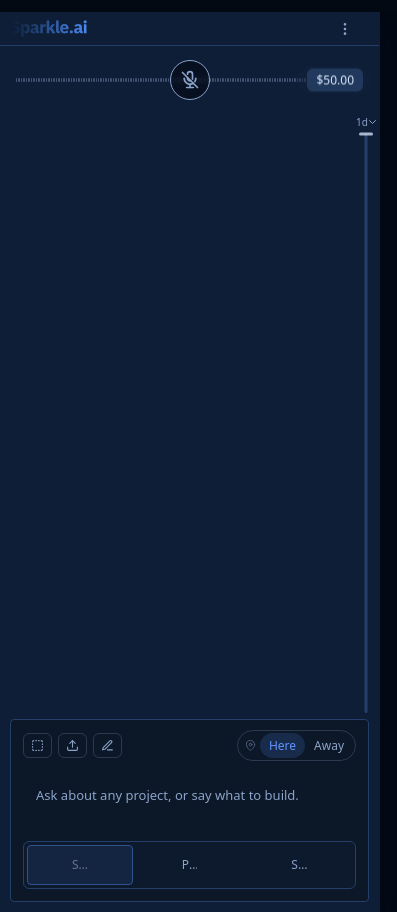
it: ConciergeHost — an addressed message goes where it was addressed › posts a receipt naming the agent it reached
Type "@Kraken Auth ship the DMG" into the text box named "Message" at (190, 804), box [23,775,356,833]
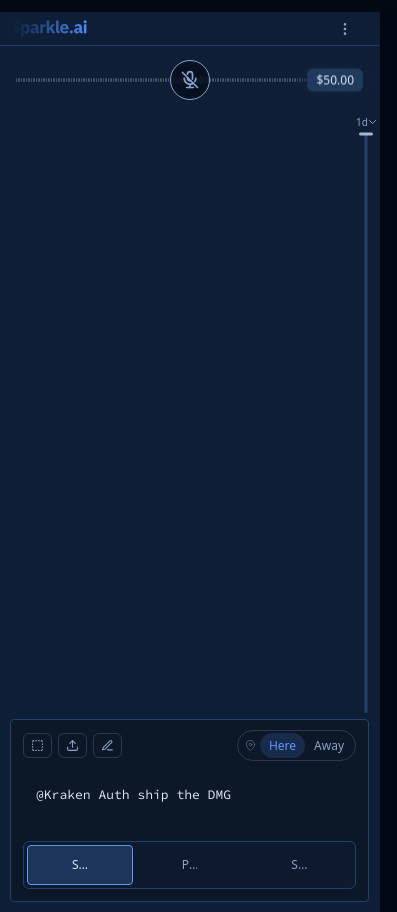
Click the button "Send" at (80, 865), box [27,845,133,885]
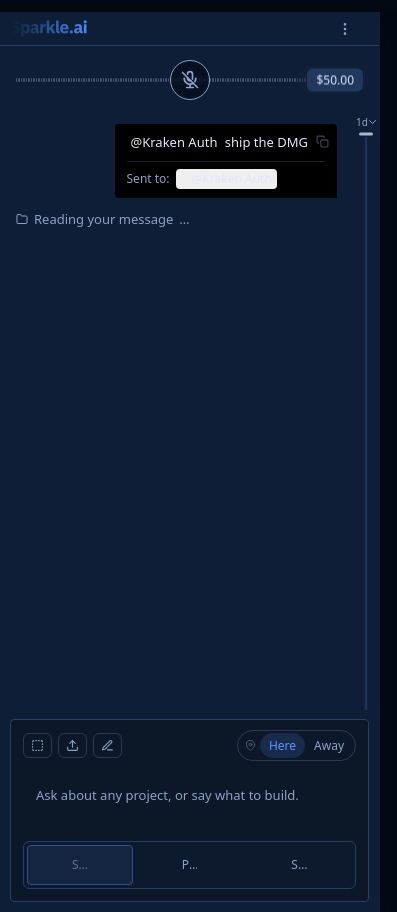
Result: the element with test id "concierge-thread" shows "Kraken Auth" at [176,168,277,188]
